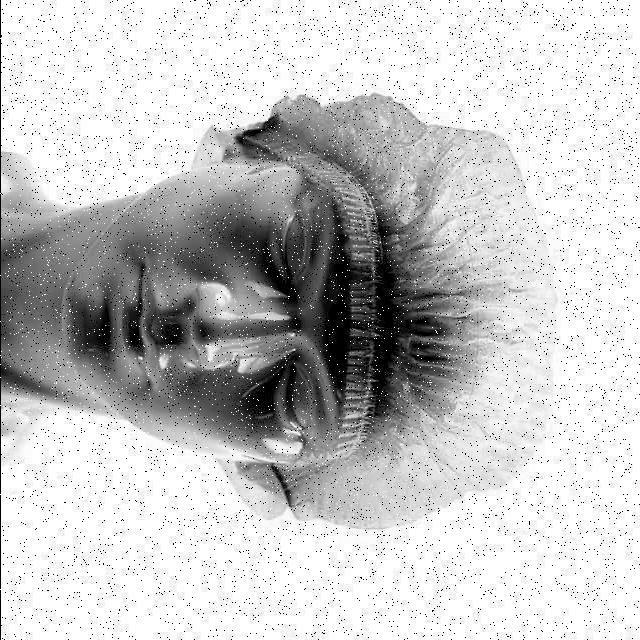gloves: (322, 81, 550, 554)
